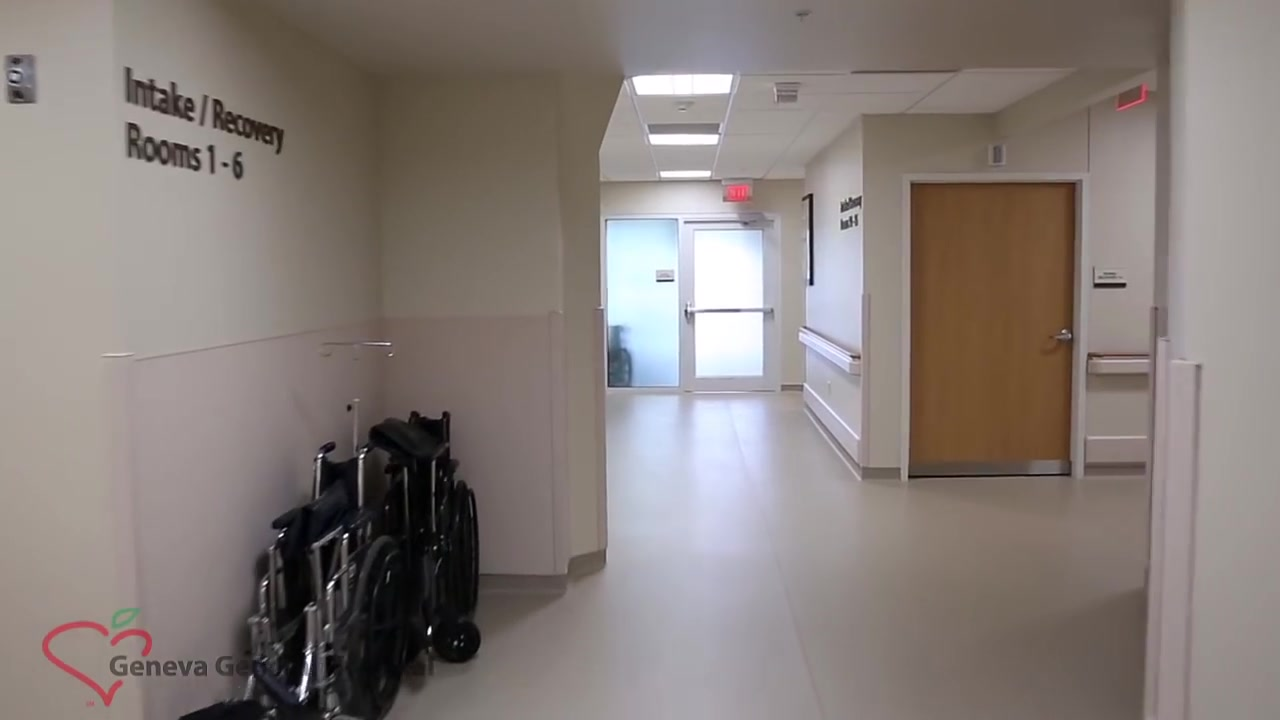door_handle: (1048, 331, 1072, 344)
hallway_assist_bar: (797, 325, 860, 375), (1084, 351, 1149, 376)
iv_pole: (319, 340, 397, 435)
push_latch: (680, 299, 772, 321)
wheel_chair: (239, 414, 483, 720)
